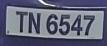4: (71, 12, 83, 38)
5: (58, 11, 71, 38)
6: (45, 11, 60, 37)
7: (83, 12, 97, 38)
N: (28, 11, 44, 37)
T: (14, 9, 29, 36)
